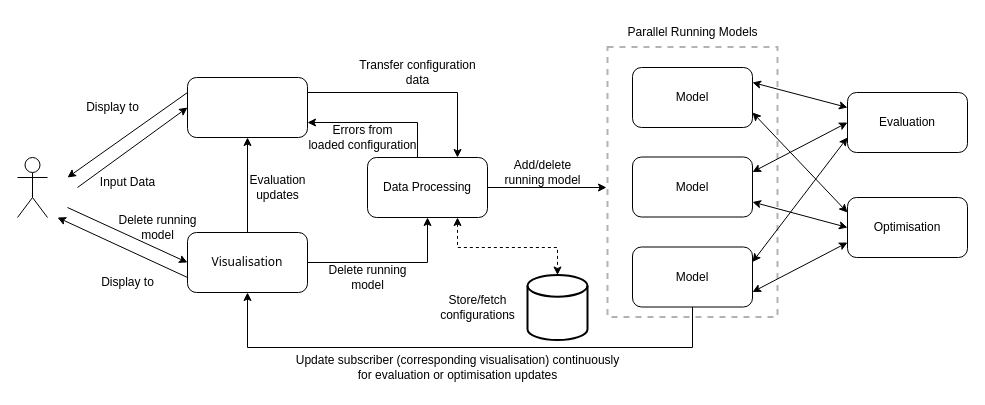
The diagram is 985 pixels wide and 405 high, and some of its shapes have lost their labels. Here are the shapes that lost their labels. From the top down, the centre of each, then its label:
point (247, 107): User Input
point (32, 187): User
point (557, 307): File system
